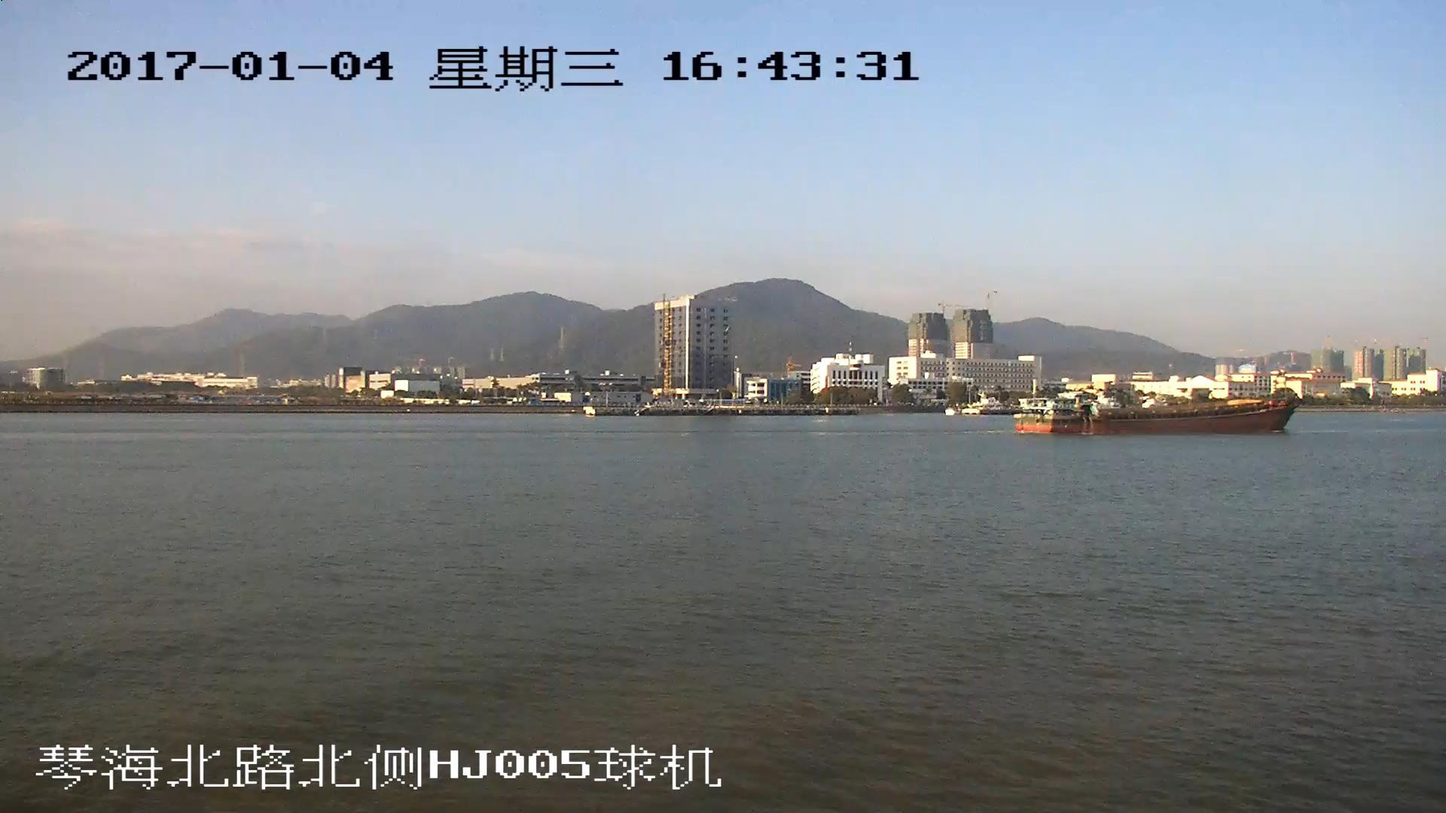bulk cargo carrier: (1015, 396, 1301, 434)
